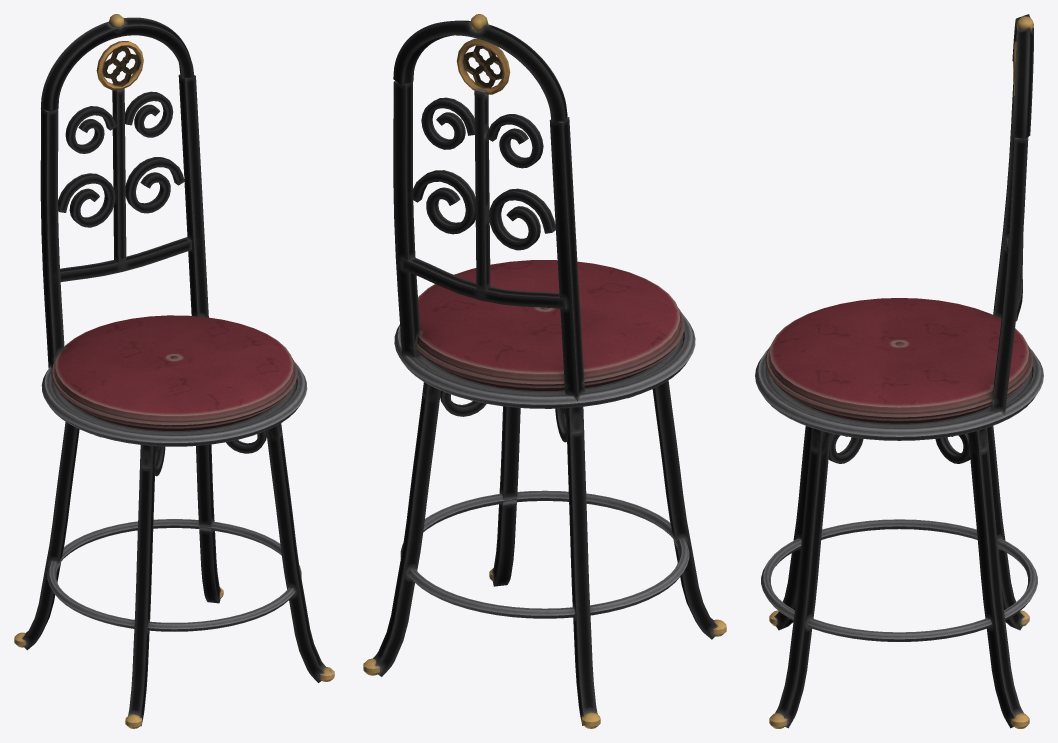
Rendered from CafeChair.fbx.
3 renders of one model, left to right at view 1: azimuth 30°, elevation 25°; view 2: azimuth 150°, elevation 25°; view 3: azimuth 270°, elevation 25°, orthographic. The views are drawn at different scales.
Parts seen in each view (by area): view 1: CafeChair; view 2: CafeChair; view 3: CafeChair.
Part boxes in pixels (<box>): CafeChair: <box>14,14,334,728</box>; CafeChair: <box>363,14,726,728</box>; CafeChair: <box>755,14,1043,728</box>.
Size of the model in its own units: 147 by 371 by 147.
